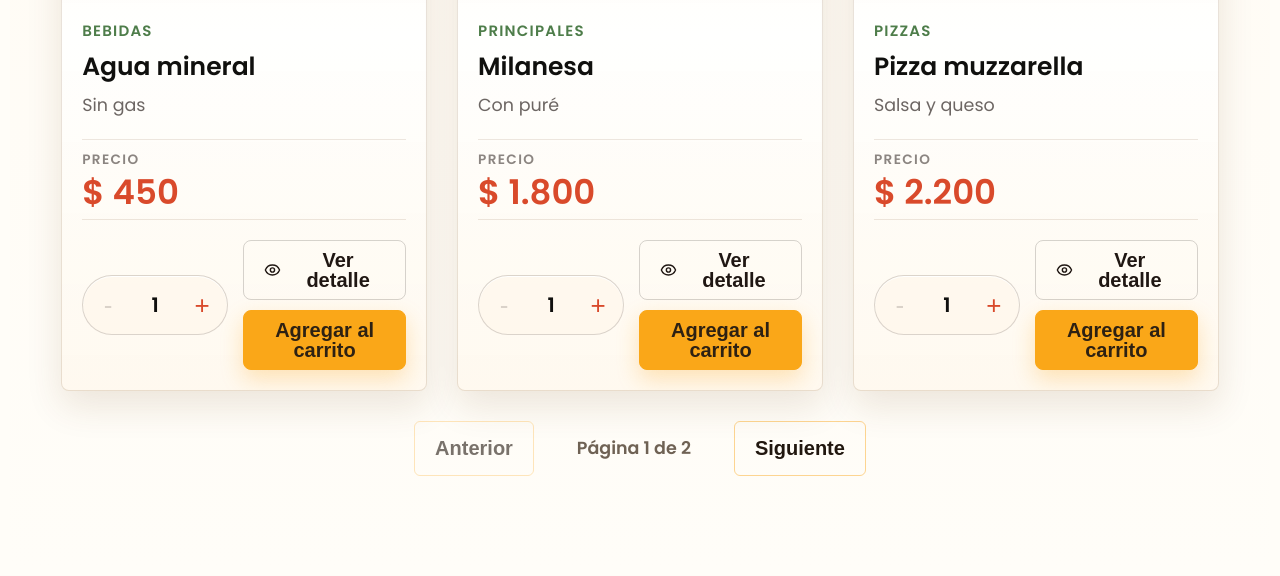
ProductsPage integration › paginates filtered products locally with previous and next controls
(page scrolled)
Expected: the text "Empanada carne" is not shown
Expected: the button with aria-label "Ver página anterior de productos" is disabled, [414,421,534,476]
Click the button with aria-label "Ver página siguiente de productos": click(800, 448) [734,421,866,476]
(page scrolled)
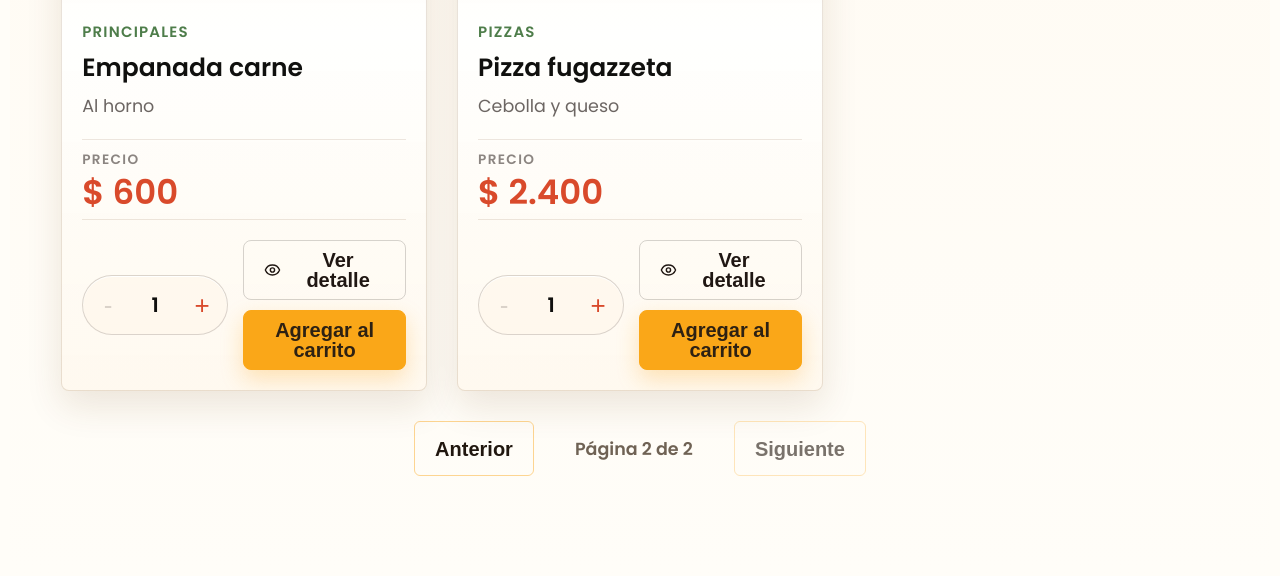
Expected: the heading "Empanada carne" is shown, [82,50,303,85]
Expected: the heading "Pizza fugazzeta" is shown, [478,50,673,85]
Expected: the text "Página 2 de 2" is shown, [575,437,693,461]
Click the button with aria-label "Ver página anterior de productos": click(474, 449) [414,421,534,476]
(page scrolled)
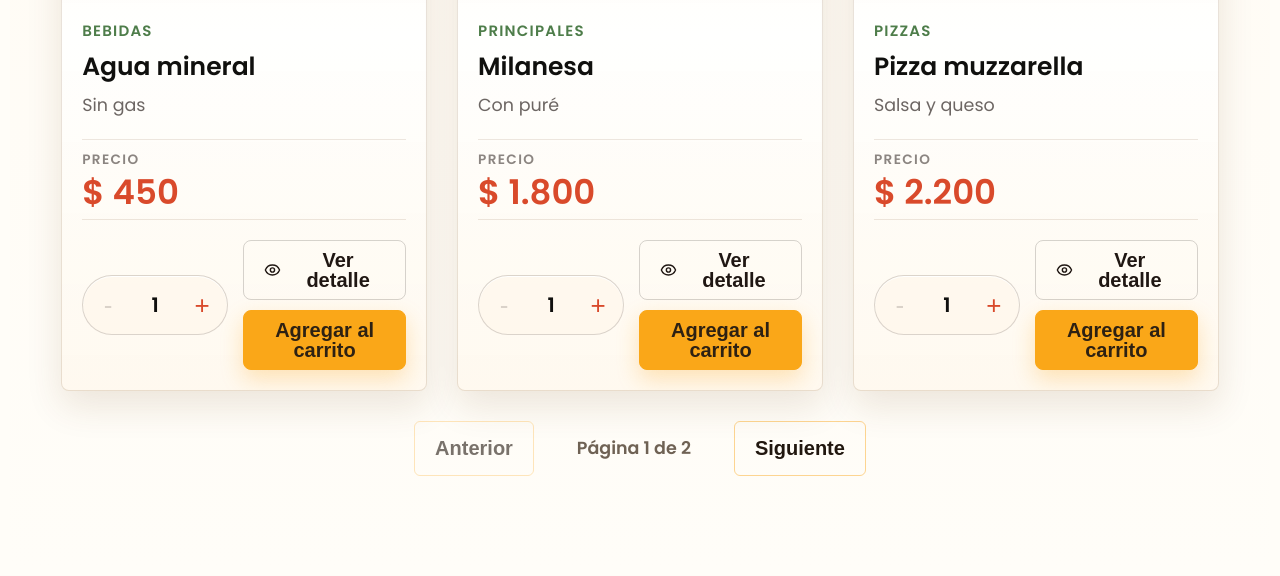
Expected: the text "Página 1 de 2" is shown, [577,436,691,460]
